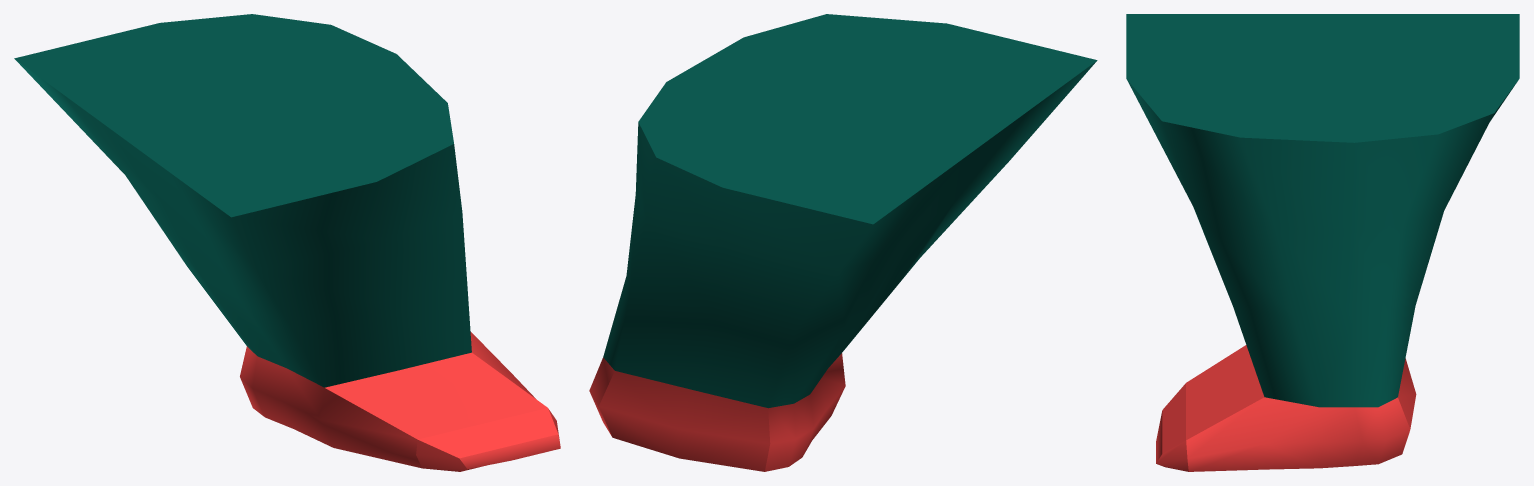
File: AXO_SAD_LEG_L.fbx
3 renders of one model, left to right at view 1: azimuth 30°, elevation 25°; view 2: azimuth 150°, elevation 25°; view 3: azimuth 270°, elevation 25°, orthographic. The views are drawn at different scales.
Visible parts, largest first — view 1: AXO_SAD_LEG_L; view 2: AXO_SAD_LEG_L; view 3: AXO_SAD_LEG_L.
Part boxes in pixels (x1,y1,x2,y2): AXO_SAD_LEG_L: (14,14,560,471); AXO_SAD_LEG_L: (589,14,1097,471); AXO_SAD_LEG_L: (1126,14,1519,471).
Bounding box in the file's own units: 3.17 × 2.79 × 3.32.
